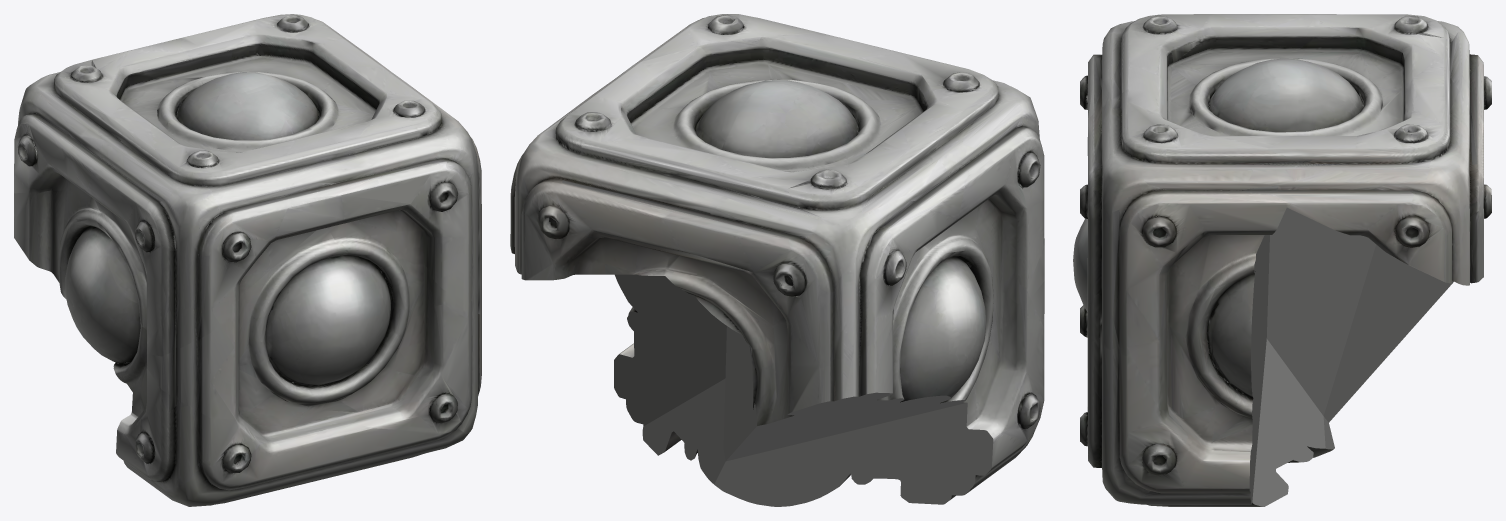
The model's file is kup_metal_parcali.glb.
3 renders of one model, left to right at view 1: azimuth 30°, elevation 25°; view 2: azimuth 150°, elevation 25°; view 3: azimuth 270°, elevation 25°, orthographic. The views are drawn at different scales.
Visible parts, largest first — view 1: p01, p06, p05, p03, p07, p00, p04, p02; view 2: p07, p01, p02, p03, p00, p04, p05, p06; view 3: p05, p02, p04, p00, p01, p07, p03, p06.
Part boxes in pixels (x1,y1,x2,y2): p01: (68,86,341,356); p06: (147,224,460,432); p05: (299,68,481,302); p03: (116,365,467,506); p07: (14,37,272,193); p00: (14,189,146,391); p04: (328,223,481,434); p02: (186,14,394,111); p07: (658,81,937,368); p01: (765,38,1044,303); p02: (510,62,768,280); p03: (642,319,1044,506); p00: (723,246,993,461); p04: (614,274,726,426); p05: (621,14,843,95); p06: (992,281,1044,320); p05: (1080,89,1286,355); p02: (1247,77,1491,285); p04: (1081,235,1269,504); p00: (1266,207,1453,422); p01: (1080,14,1316,155); p07: (1266,14,1491,124); p03: (1080,305,1334,506); p06: (1073,218,1095,467).
Bounding box in the file's own units: 0.965 × 0.9802 × 0.9629.
2 materials, 1 textured.
